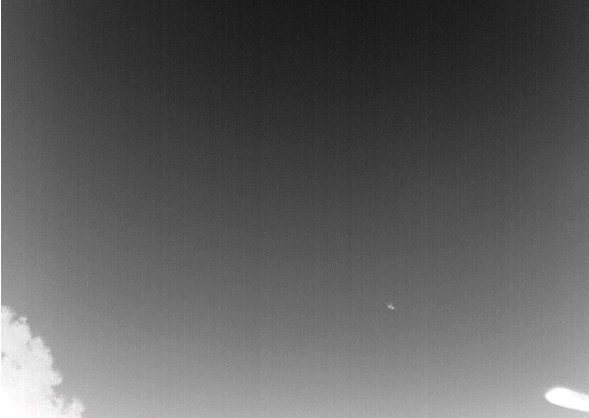dim target: (385, 302, 396, 311)
